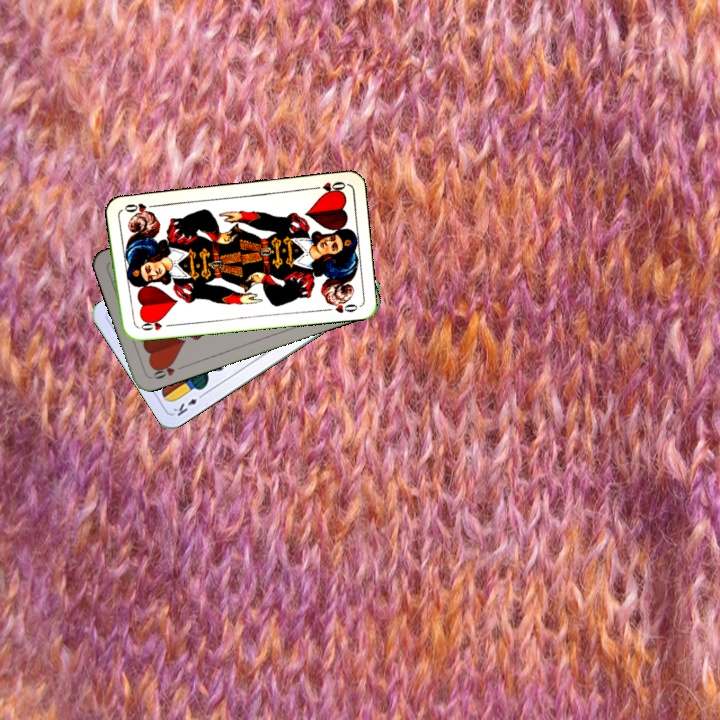EK: (169, 389, 207, 419)
HO: (147, 358, 187, 382), (308, 177, 348, 197), (132, 314, 173, 333)
